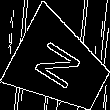N_SE: (32, 36, 89, 96)
